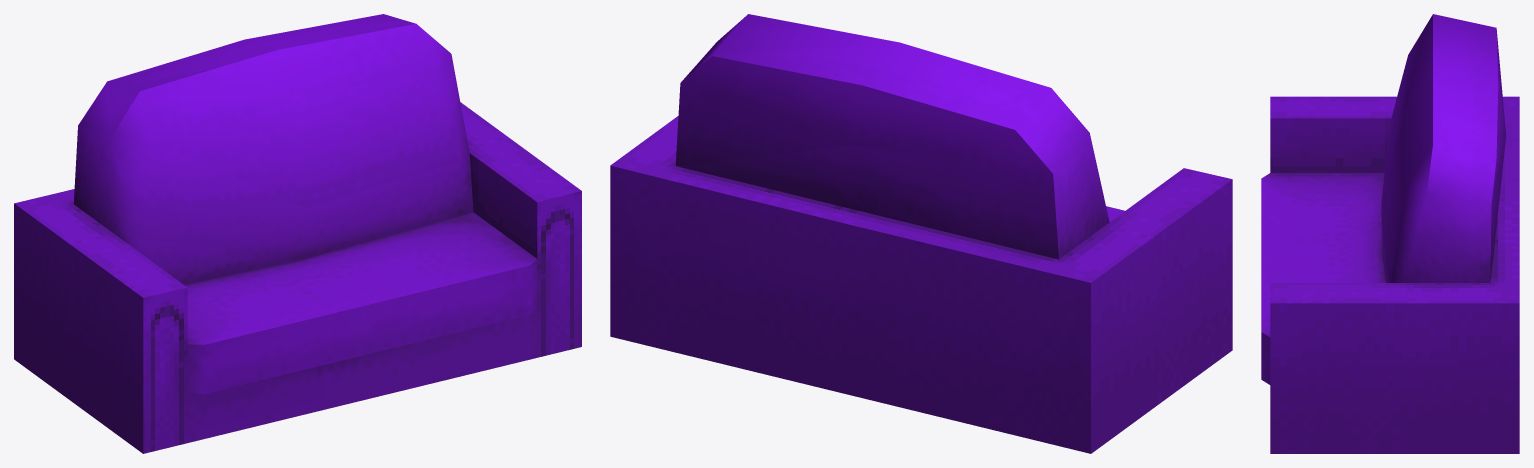
The model's file is polygon0.obj.
The picture shows the model from 3 angles, left to right: view 1: azimuth 30°, elevation 25°; view 2: azimuth 150°, elevation 25°; view 3: azimuth 270°, elevation 25°; orthographic projection. The views are drawn at different scales.
Parts seen in each view (by area): view 1: polygon0; view 2: polygon0; view 3: polygon0.
Boxes of the visible parts, <box> form: polygon0: <box>14,14,581,453</box>; polygon0: <box>610,14,1232,453</box>; polygon0: <box>1261,14,1519,453</box>.
Size of the model in its own units: 1.63 by 1.02 by 0.8598.
2 materials, 2 textured.
